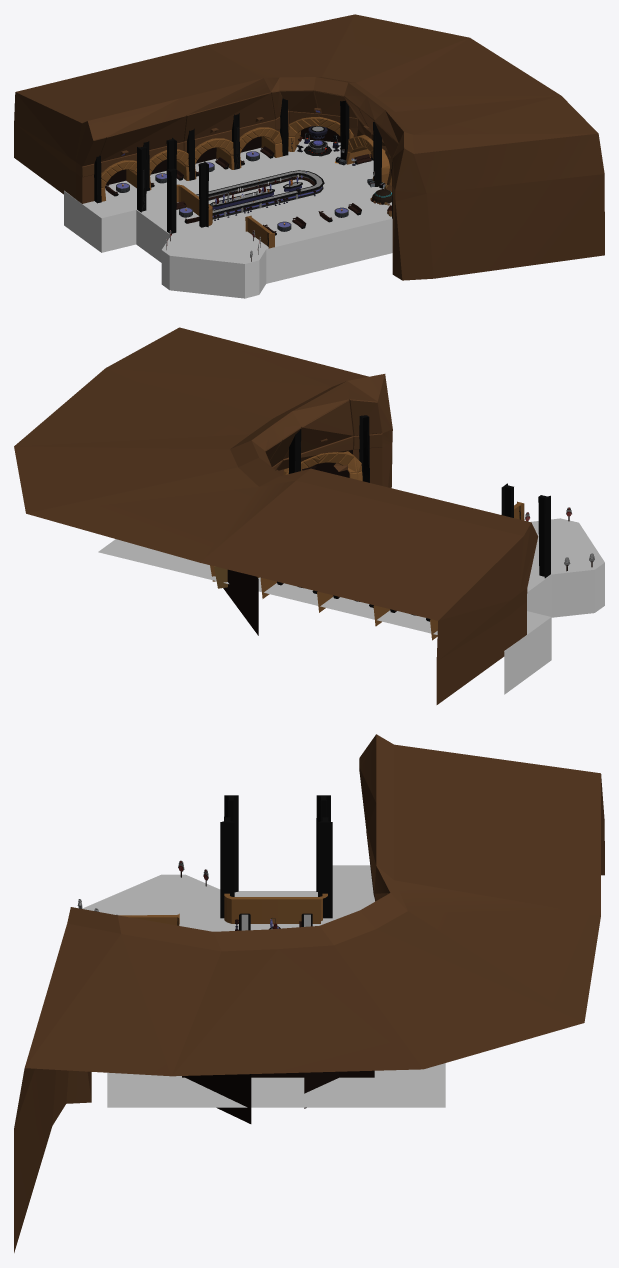
File: HUB_Final.fbx
3 views of the same model, one above another, from view 1: azimuth 30°, elevation 25°; view 2: azimuth 150°, elevation 25°; view 3: azimuth 270°, elevation 25° (orthographic). The views are drawn at different scales.
Parts seen in each view (by area): view 1: Canteen_Wall, Ground, Columns, bar, Sofas, Tables, Bar_mid; view 2: Canteen_Wall, Ground, Columns; view 3: Canteen_Wall, Ground, Columns.
Boxes of the visible parts, x1=… form: Canteen_Wall: x1=14, y1=14, x2=604, y2=280; Ground: x1=64, y1=139, x2=392, y2=298; Columns: x1=94, y1=97, x2=392, y2=234; bar: x1=196, y1=170, x2=324, y2=219; Sofas: x1=105, y1=146, x2=373, y2=235; Tables: x1=116, y1=151, x2=348, y2=231; Bar_mid: x1=209, y1=182, x2=302, y2=209; Canteen_Wall: x1=14, y1=327, x2=538, y2=704; Ground: x1=98, y1=518, x2=604, y2=694; Columns: x1=223, y1=415, x2=550, y2=635; Canteen_Wall: x1=14, y1=734, x2=604, y2=1252; Ground: x1=82, y1=865, x2=445, y2=1107; Columns: x1=182, y1=795, x2=374, y2=1123.
Size of the model in its own units: 75.28 by 25.57 by 61.7.
